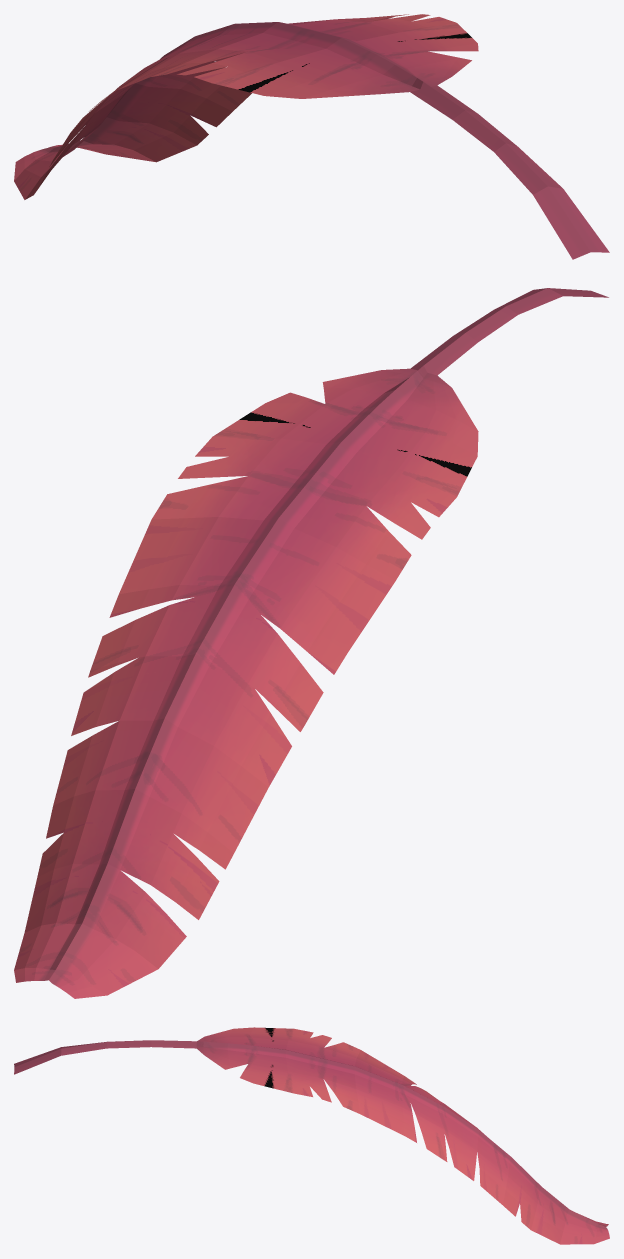
The model's file is palmLeafA.glb.
3 views of the same model, one above another, from view 1: azimuth 30°, elevation 25°; view 2: azimuth 150°, elevation 25°; view 3: azimuth 270°, elevation 25° (orthographic). The views are drawn at different scales.
Parts seen in each view (by area): view 1: palmLeaf2.001; view 2: palmLeaf2.001; view 3: palmLeaf2.001.
Part boxes in pixels (x1,y1,x2,y2): palmLeaf2.001: (14,14,609,259); palmLeaf2.001: (14,288,608,998); palmLeaf2.001: (14,1027,609,1244).
Bounding box in the file's own units: 2.56 × 3.56 × 9.91.
1 material, 1 textured.
